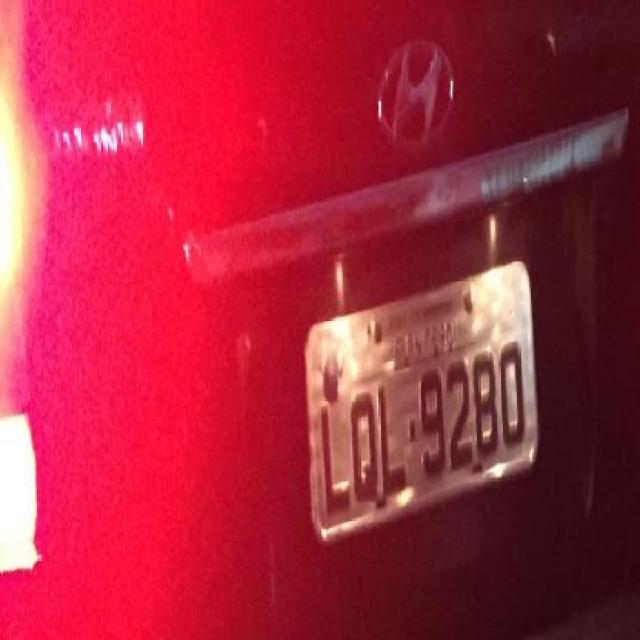old_plate: (299, 254, 545, 552)
